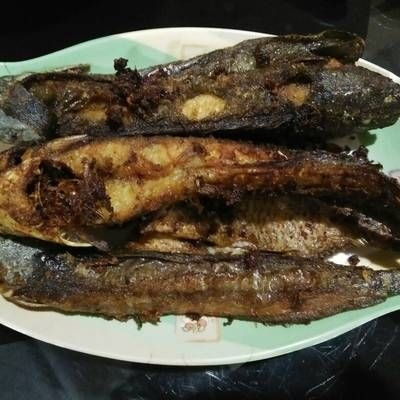pecel_lele: (3, 134, 396, 235), (1, 239, 395, 320)
